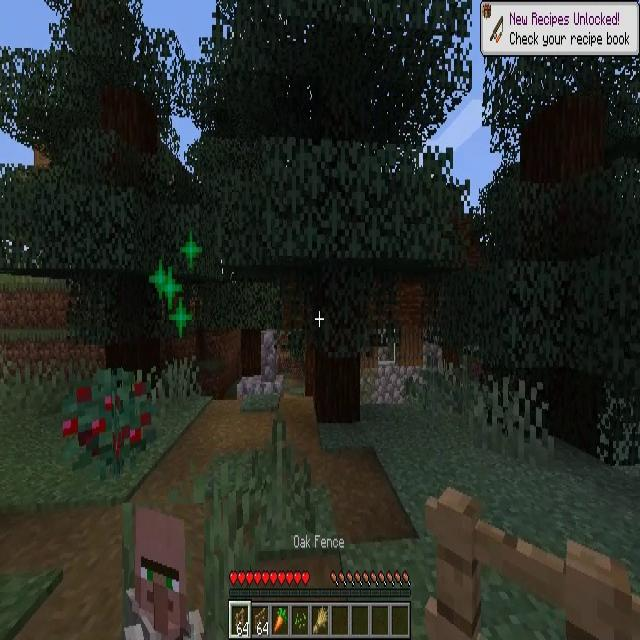people: (123, 503, 205, 640)
